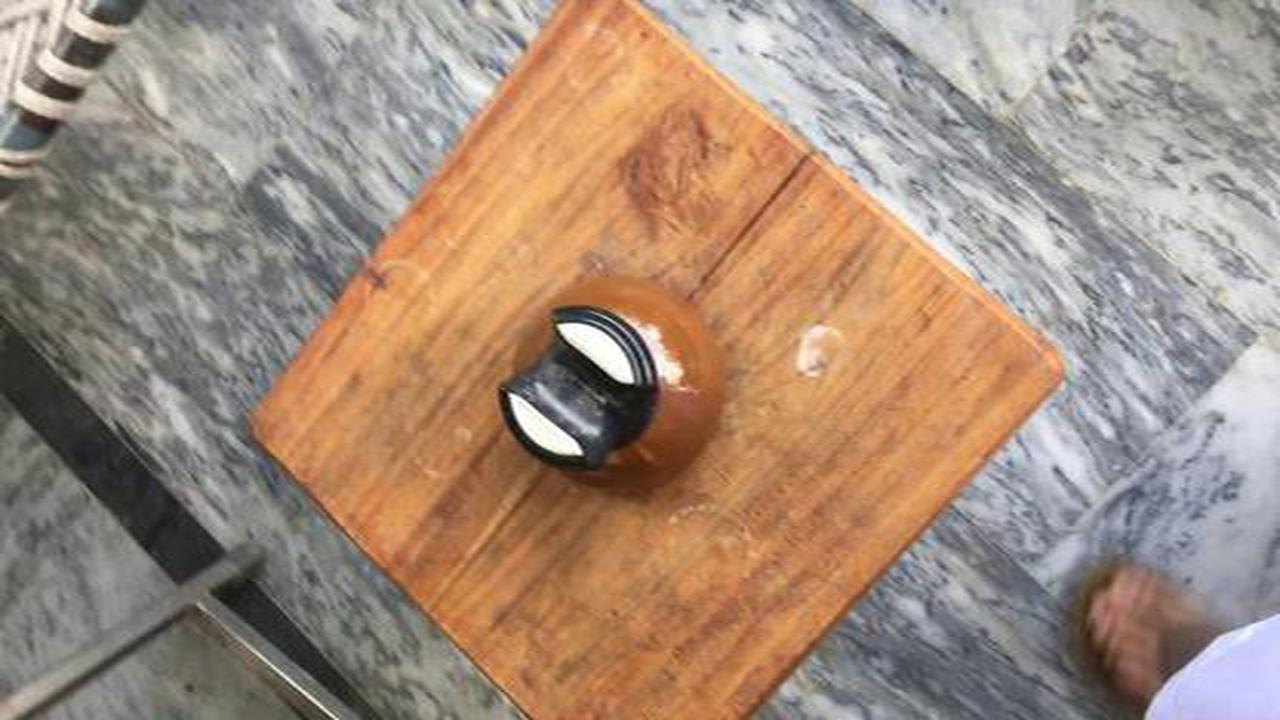insulator_pin: (468, 251, 757, 518)
